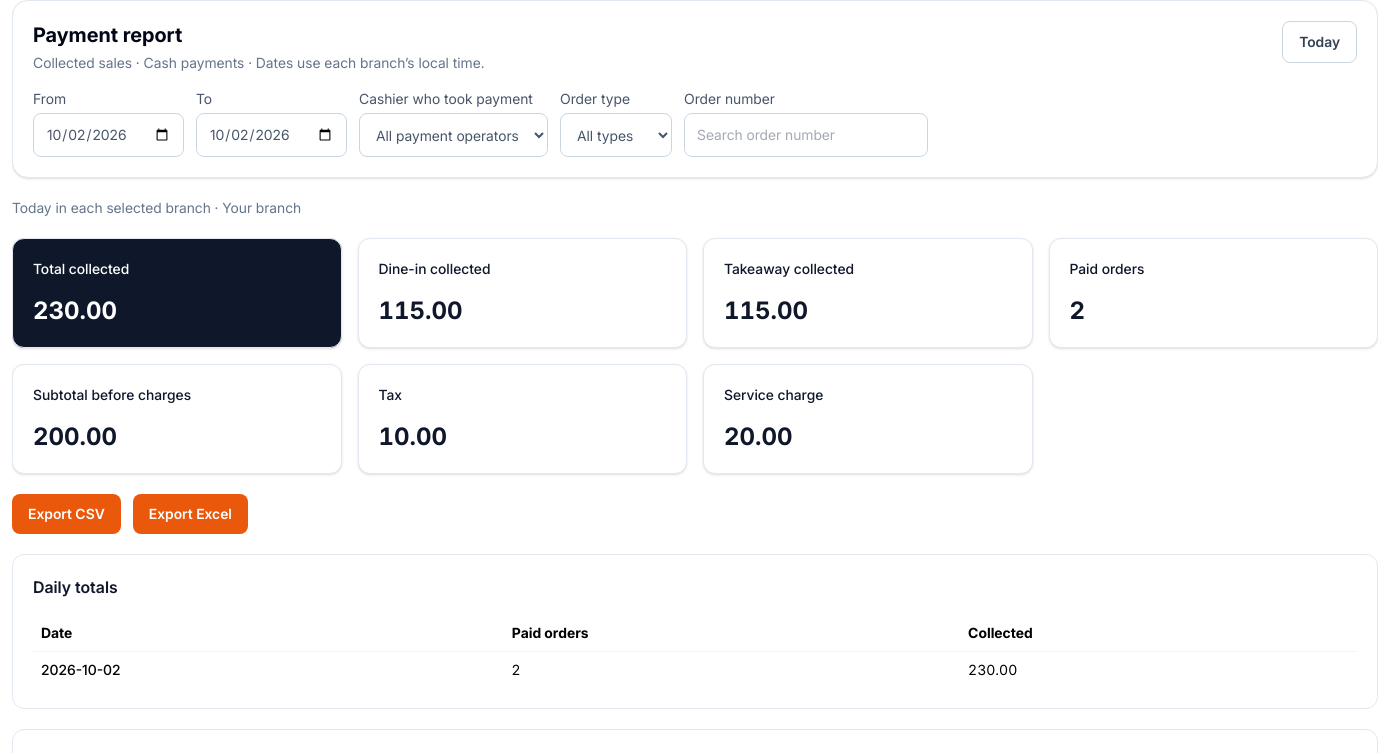
payment report › reports an export permission error without losing the loaded report
Click the button "Export Excel" at (190, 514), box [133,494,248,534]
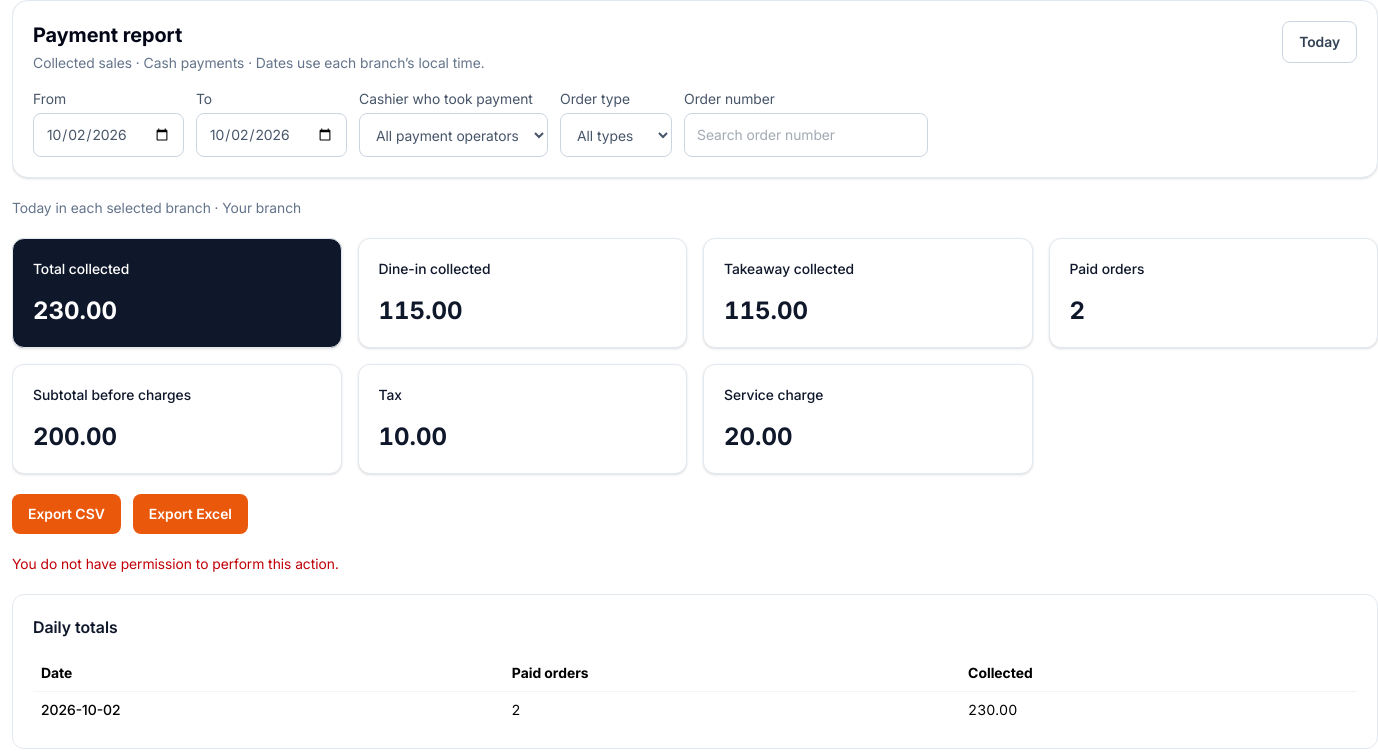
Expected: the text "230.00" is shown, [33,296,117,325]
Result: the message "You do not have permission to perform this action." is shown at [12,555,339,572]
